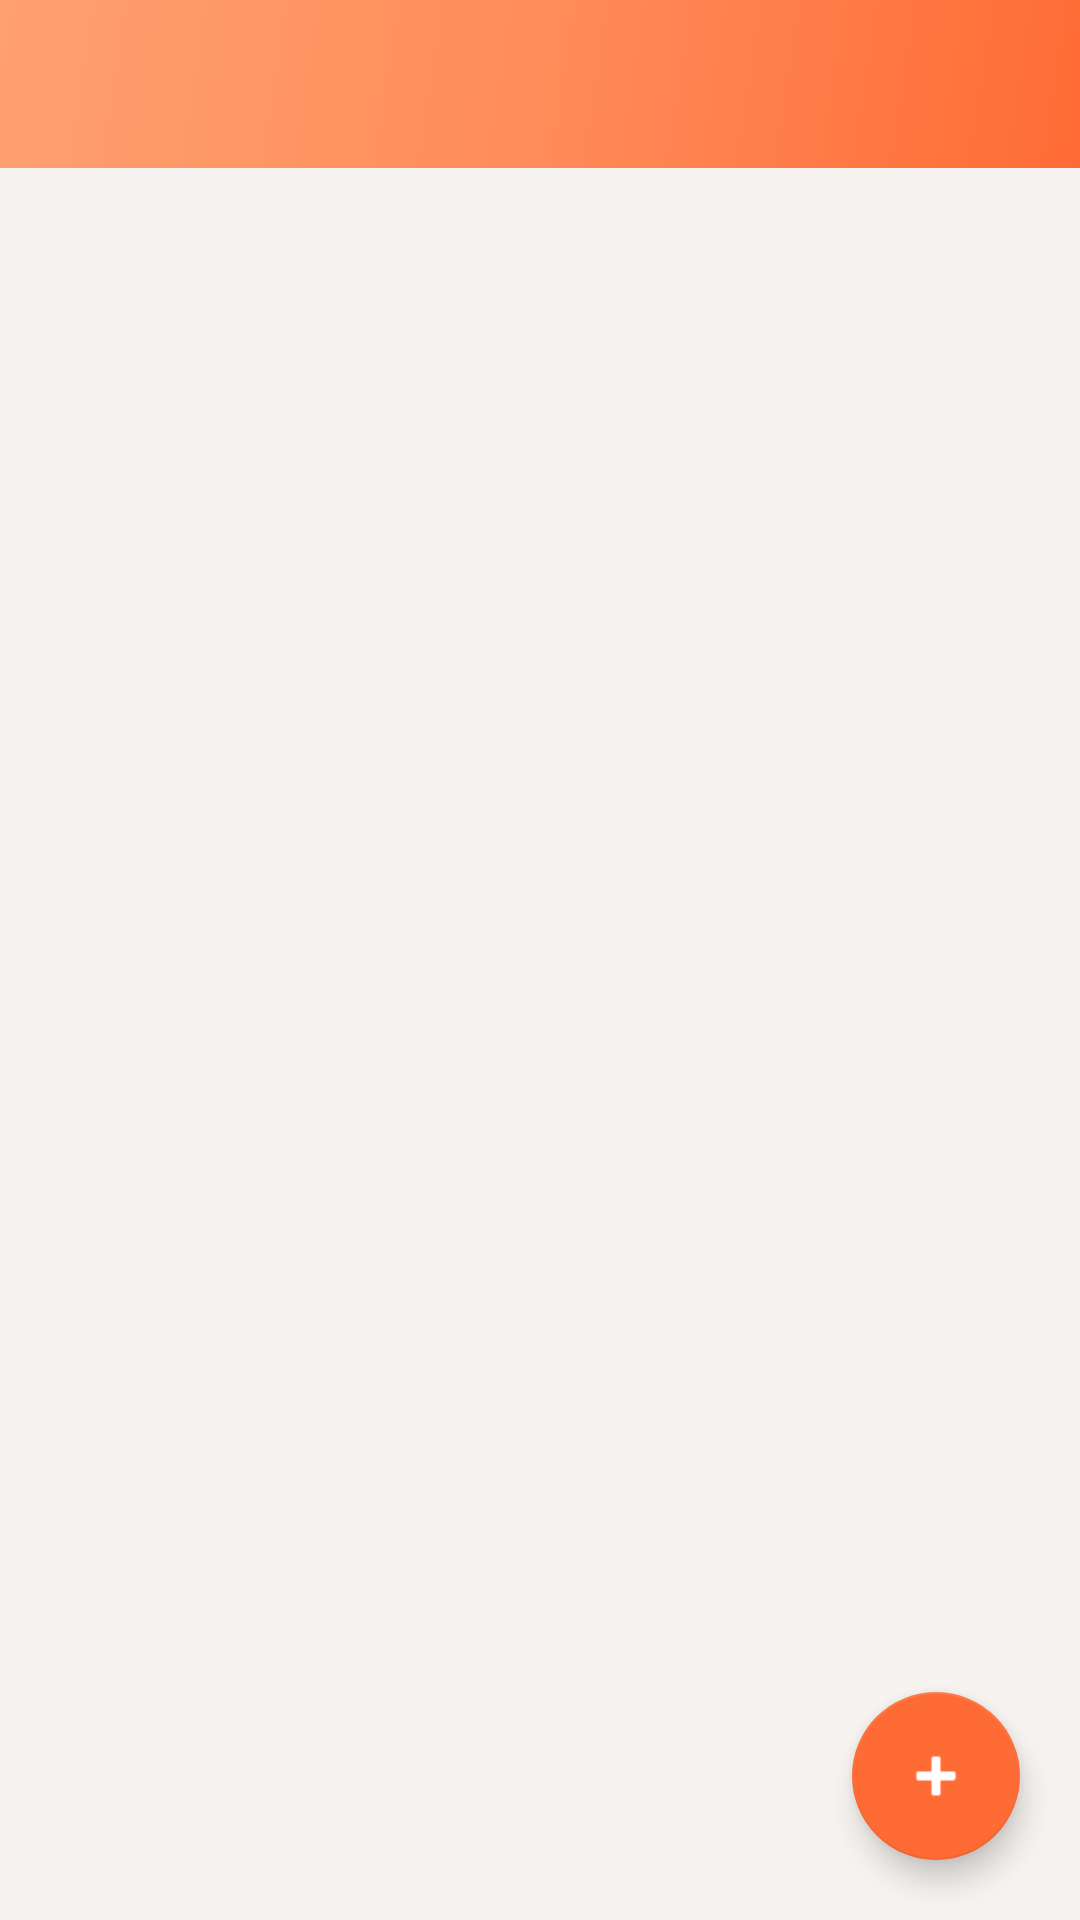

Screen size 1080×1920. Icon name, then its center in pixels as point (x, y):
Thêm danh mục: point (936, 1776)
